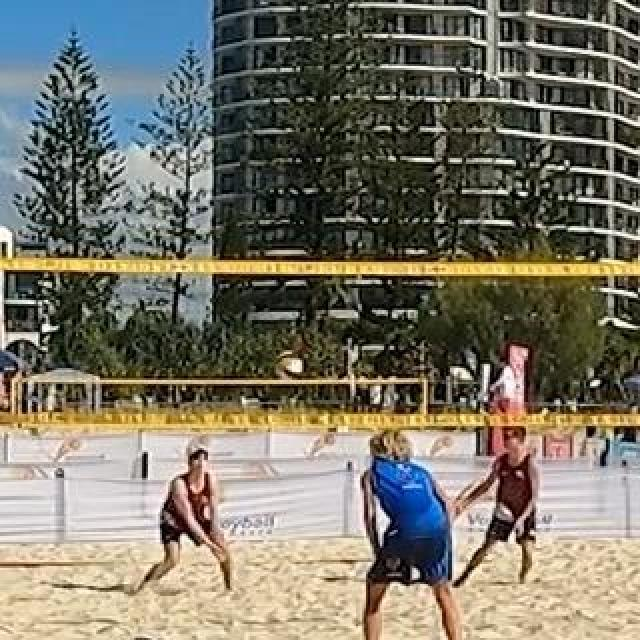volleyball: (274, 351, 304, 381)
